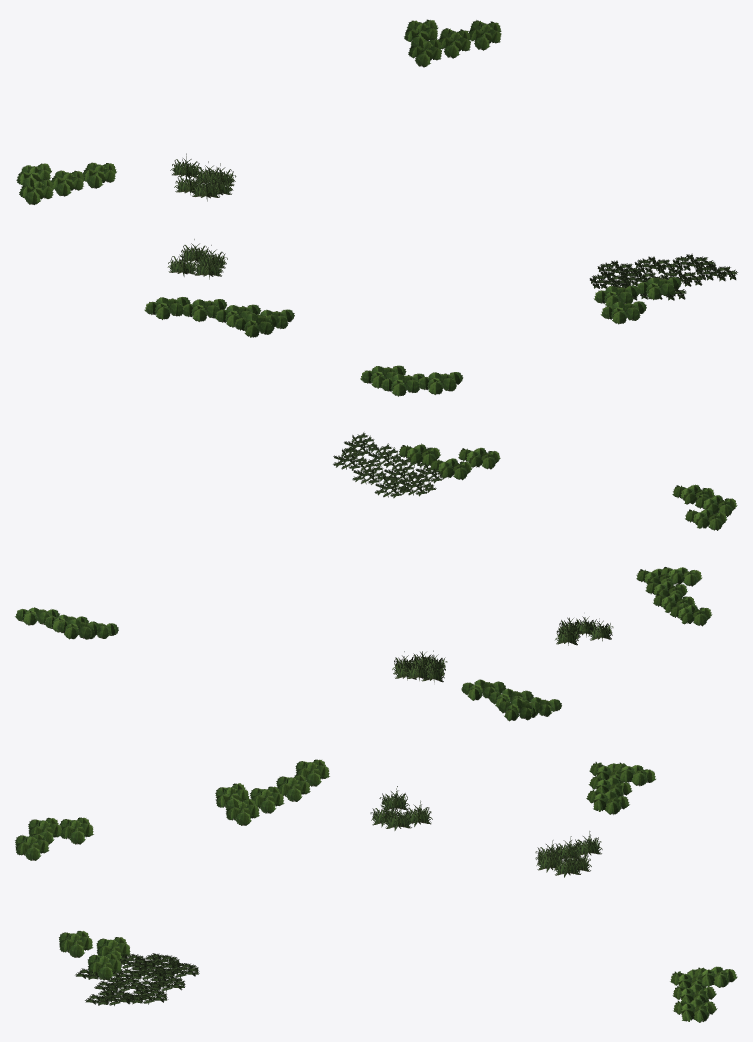
File: PASTOS_wolf_island.glb
The picture shows the model from 3 angles, top to bottom: view 1: azimuth 30°, elevation 25°; view 2: azimuth 150°, elevation 25°; view 3: azimuth 270°, elevation 25°; orthographic projection. The views are drawn at different scales.
Visible parts, largest first — view 1: Pasto1.002; view 2: Pasto1.002; view 3: Pasto1.002.
Boxes of the visible parts, x1,y1,x2,y2 form: Pasto1.002: (16,19,737,396); Pasto1.002: (15,432,737,721); Pasto1.002: (15,759,737,1022).
Size of the model in its own units: 52.72 by 4.55 by 59.67.
4 materials, 4 textured.
